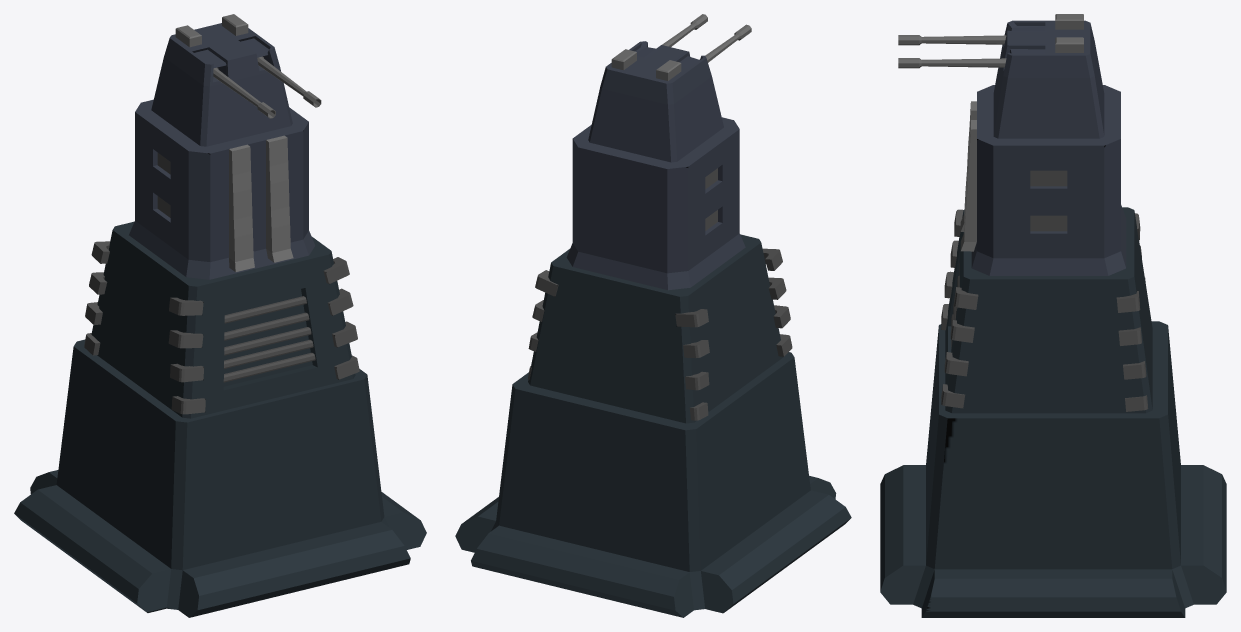
The model's file is Torreta.fbx.
3 views of the same model, side by side, from view 1: azimuth 30°, elevation 25°; view 2: azimuth 150°, elevation 25°; view 3: azimuth 270°, elevation 25° (orthographic). The views are drawn at different scales.
Visible parts, largest first — view 1: Torreta.003; view 2: Torreta.003; view 3: Torreta.003.
Boxes of the visible parts, <box> form: Torreta.003: <box>14,14,426,617</box>; Torreta.003: <box>455,14,851,617</box>; Torreta.003: <box>880,14,1226,617</box>.
Size of the model in its own units: 367 by 608 by 367.
Materials: 1 (1 with a texture image).
